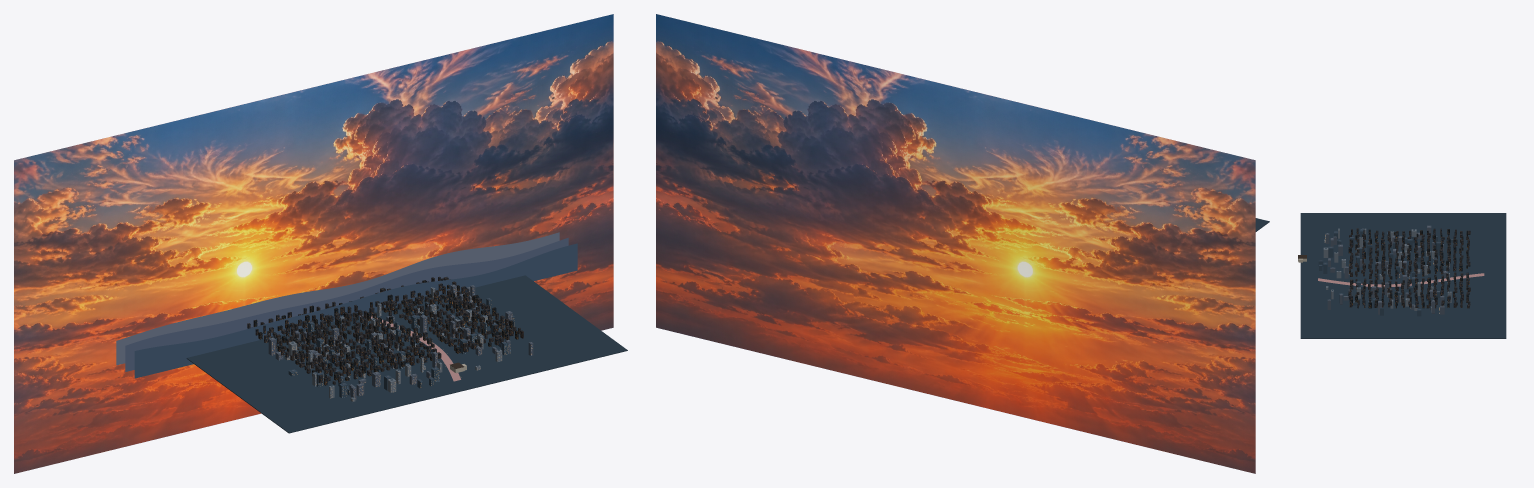
Rendered from sunset-editable-web.glb.
The picture shows the model from 3 angles, left to right: view 1: azimuth 30°, elevation 25°; view 2: azimuth 150°, elevation 25°; view 3: azimuth 270°, elevation 25°; orthographic projection. The views are drawn at different scales.
Parts seen in each view (by area): view 1: Exterior / Sky / sunset panorama.001, Exterior / City / asphalt, Exterior / Horizon / ridge 2, Exterior / Horizon / ridge 0, Exterior / Horizon / ridge 1, Exterior / City atlas / 1, Exterior / City atlas / 0, Exterior / City atlas / 2, Exterior / City atlas / 3, Exterior / City / dusk facade, Exterior / City / slate facade, Exterior / City / pale facade; view 2: Exterior / Sky / sunset panorama.001; view 3: Exterior / City / asphalt, Exterior / City atlas / 3, Exterior / City atlas / 1, Exterior / City atlas / 2, Exterior / City atlas / 0, Exterior / City / dusk facade, Exterior / City / slate facade, Exterior / City / pale facade, Exterior / River / dusk reflection.
Boxes of the visible parts, bbox=[...] form: Exterior / Sky / sunset panorama.001: bbox=[14, 14, 613, 473]; Exterior / City / asphalt: bbox=[186, 275, 627, 433]; Exterior / Horizon / ridge 2: bbox=[134, 243, 577, 378]; Exterior / Horizon / ridge 0: bbox=[116, 232, 559, 365]; Exterior / Horizon / ridge 1: bbox=[125, 237, 568, 371]; Exterior / City atlas / 1: bbox=[251, 276, 520, 384]; Exterior / City atlas / 0: bbox=[255, 277, 523, 385]; Exterior / City atlas / 2: bbox=[247, 277, 516, 382]; Exterior / City atlas / 3: bbox=[253, 280, 518, 380]; Exterior / City / dusk facade: bbox=[268, 284, 533, 400]; Exterior / City / slate facade: bbox=[268, 287, 514, 398]; Exterior / City / pale facade: bbox=[271, 285, 531, 401]; Exterior / Sky / sunset panorama.001: bbox=[656, 14, 1255, 473]; Exterior / City / asphalt: bbox=[1300, 213, 1506, 338]; Exterior / City atlas / 3: bbox=[1348, 229, 1468, 308]; Exterior / City atlas / 1: bbox=[1349, 228, 1470, 308]; Exterior / City atlas / 2: bbox=[1348, 228, 1470, 308]; Exterior / City atlas / 0: bbox=[1348, 229, 1470, 308]; Exterior / City / dusk facade: bbox=[1320, 225, 1453, 314]; Exterior / City / slate facade: bbox=[1318, 228, 1453, 316]; Exterior / City / pale facade: bbox=[1323, 226, 1451, 312]; Exterior / River / dusk reflection: bbox=[1318, 273, 1484, 287].
Bounding box in the file's own units: 460 × 230 × 194.
36 materials, 13 textured.
